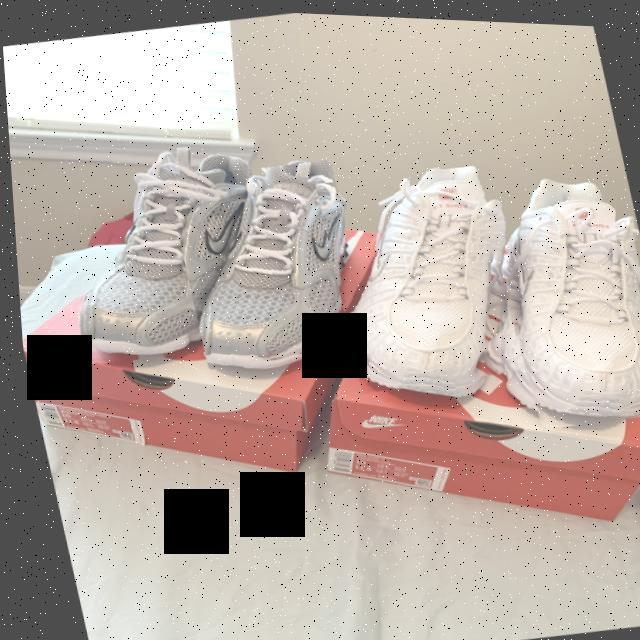shoe: (312, 154, 533, 397), (41, 137, 256, 371), (162, 149, 383, 374), (468, 153, 640, 430)
